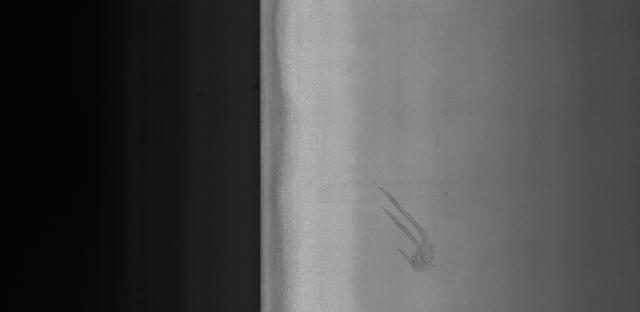water_spot: (373, 183, 449, 281)
